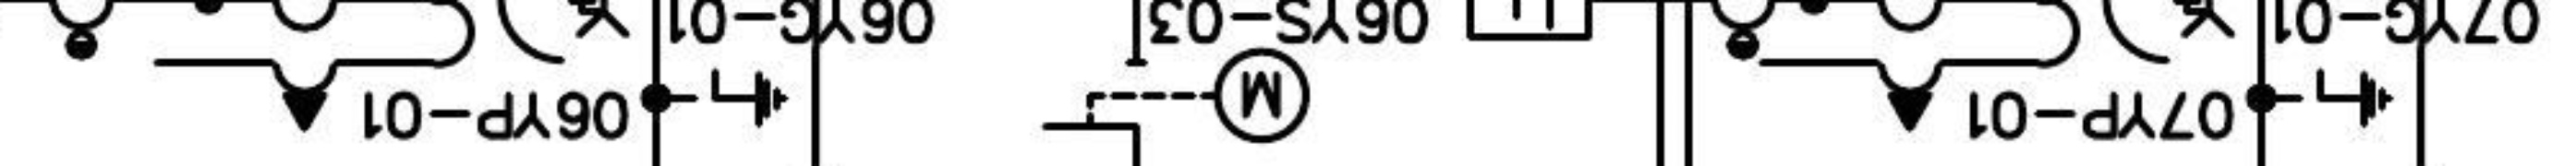115_1way_ds_w_motor: (1038, 44, 1314, 143)
115_gs: (2290, 66, 2395, 131), (687, 66, 792, 131)
